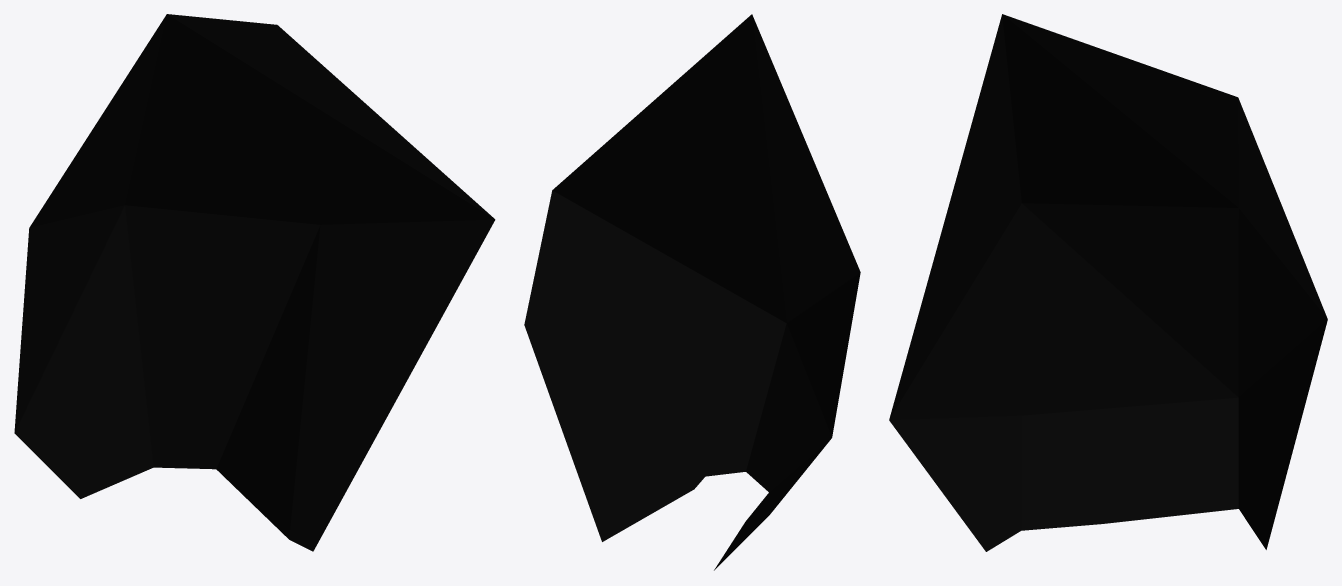
The picture shows the model from 3 angles, left to right: view 1: azimuth 30°, elevation 25°; view 2: azimuth 150°, elevation 25°; view 3: azimuth 270°, elevation 25°; orthographic projection. The views are drawn at different scales.
Size of the model in its own units: 0.0411 by 0.0582 by 0.0436.
Materials: 1 (1 with a texture image).
